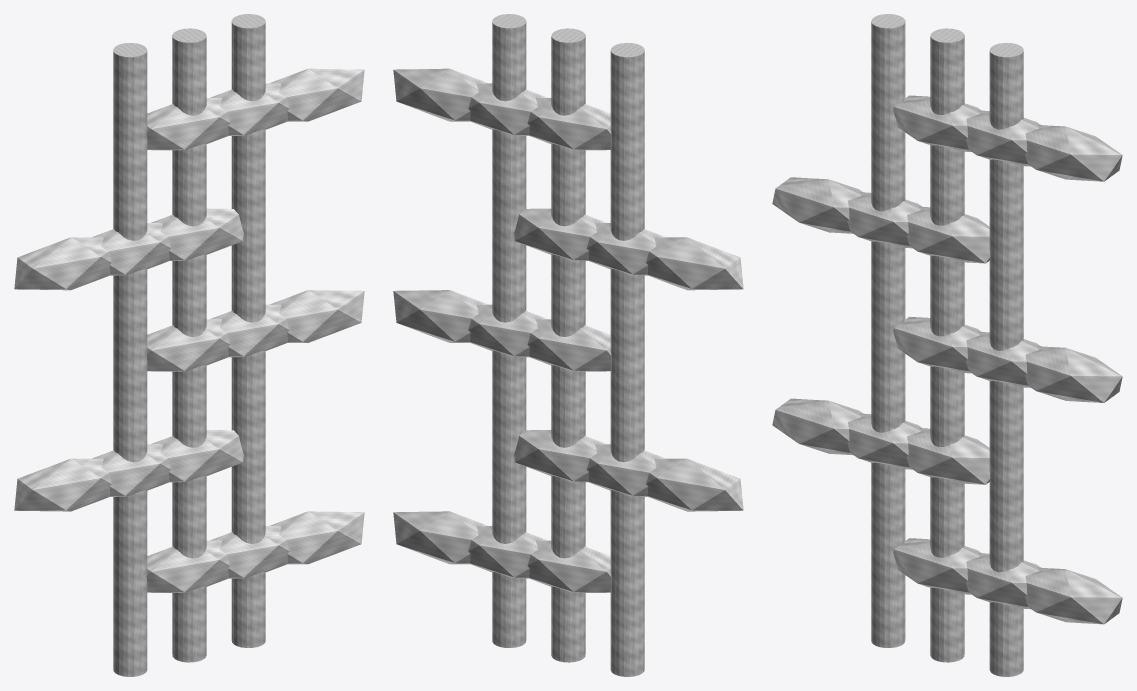
The model's file is flora-vine-ladder_variant_c.glb.
The picture shows the model from 3 angles, left to right: view 1: azimuth 30°, elevation 25°; view 2: azimuth 150°, elevation 25°; view 3: azimuth 330°, elevation 25°; orthographic projection.
Visible parts, largest first — view 1: Vine stem.006, Vine stem.008, Vine stem.007, Vine leaf.031, Vine leaf.033, Vine leaf.040, Vine leaf.044, Vine leaf.042, Vine leaf.032, Vine leaf.034, Vine leaf.030, Vine leaf.041 (+6 smaller); view 2: Vine stem.006, Vine stem.008, Vine stem.007, Vine leaf.031, Vine leaf.033, Vine leaf.040, Vine leaf.044, Vine leaf.042, Vine leaf.032, Vine leaf.034, Vine leaf.030, Vine leaf.041 (+6 smaller); view 3: Vine stem.006, Vine stem.008, Vine stem.007, Vine leaf.040, Vine leaf.042, Vine leaf.044, Vine leaf.033, Vine leaf.031, Vine leaf.043, Vine leaf.041, Vine leaf.030, Vine leaf.034 (+6 smaller).
Part boxes in pixels (x1,y1,x2,y2): Vine stem.006: (113, 43, 147, 676); Vine stem.008: (231, 14, 265, 647); Vine stem.007: (172, 28, 206, 662); Vine leaf.031: (14, 458, 111, 511); Vine leaf.033: (14, 237, 111, 290); Vine leaf.040: (270, 511, 364, 564); Vine leaf.044: (270, 68, 364, 121); Vine leaf.042: (270, 290, 364, 342); Vine leaf.032: (146, 319, 230, 371); Vine leaf.034: (146, 98, 230, 150); Vine leaf.030: (146, 540, 230, 593); Vine leaf.041: (151, 430, 243, 482); Vine stem.006: (610, 43, 644, 676); Vine stem.008: (492, 14, 526, 647); Vine stem.007: (551, 28, 585, 662); Vine leaf.031: (646, 458, 743, 511); Vine leaf.033: (646, 237, 743, 290); Vine leaf.040: (393, 511, 487, 564); Vine leaf.044: (393, 68, 487, 121); Vine leaf.042: (393, 290, 487, 342); Vine leaf.032: (527, 319, 611, 371); Vine leaf.034: (527, 98, 611, 150); Vine leaf.030: (527, 540, 611, 593); Vine leaf.041: (514, 430, 606, 482); Vine stem.006: (871, 14, 905, 647); Vine stem.008: (989, 43, 1023, 676); Vine stem.007: (930, 28, 964, 662); Vine leaf.040: (1025, 567, 1122, 624); Vine leaf.042: (1025, 346, 1122, 402); Vine leaf.044: (1025, 125, 1122, 181); Vine leaf.033: (772, 177, 862, 233); Vine leaf.031: (772, 398, 862, 455); Vine leaf.043: (906, 206, 990, 263); Vine leaf.041: (906, 428, 990, 484); Vine leaf.030: (893, 538, 981, 594); Vine leaf.034: (893, 95, 981, 151).
Size of what is drawn, in the model's own units: 1.66 by 2.8 by 0.2042.
2 materials, 2 textured.
